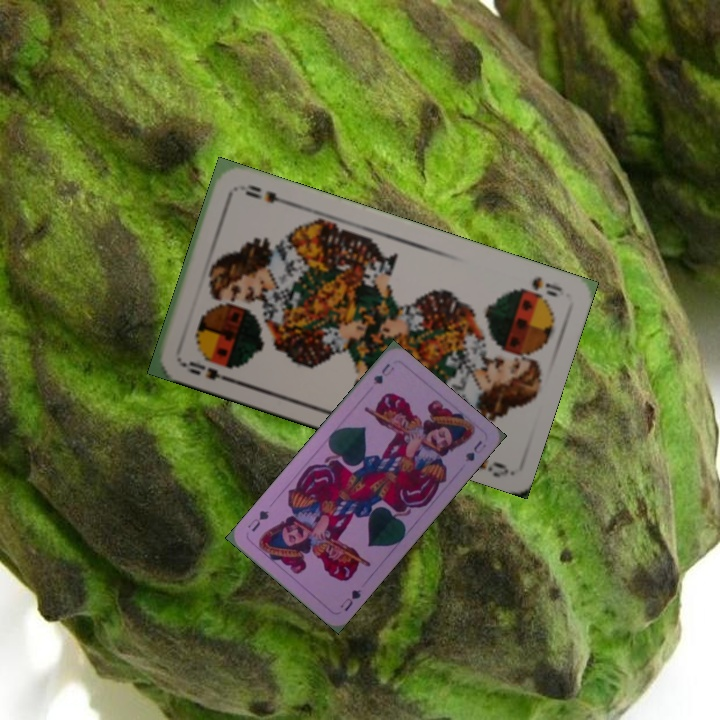GU: (336, 585, 364, 614), (369, 359, 397, 387)
SO: (176, 357, 234, 384), (528, 273, 566, 300)
